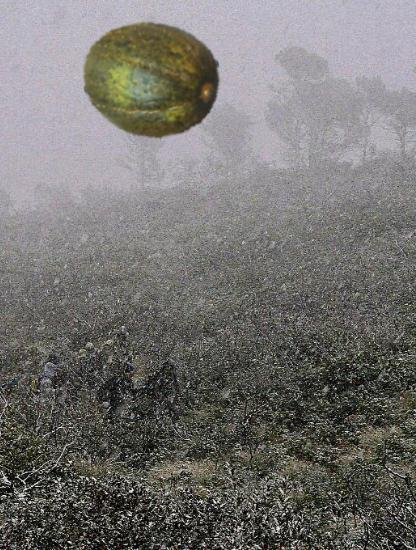Melon: (84, 14, 221, 151)
